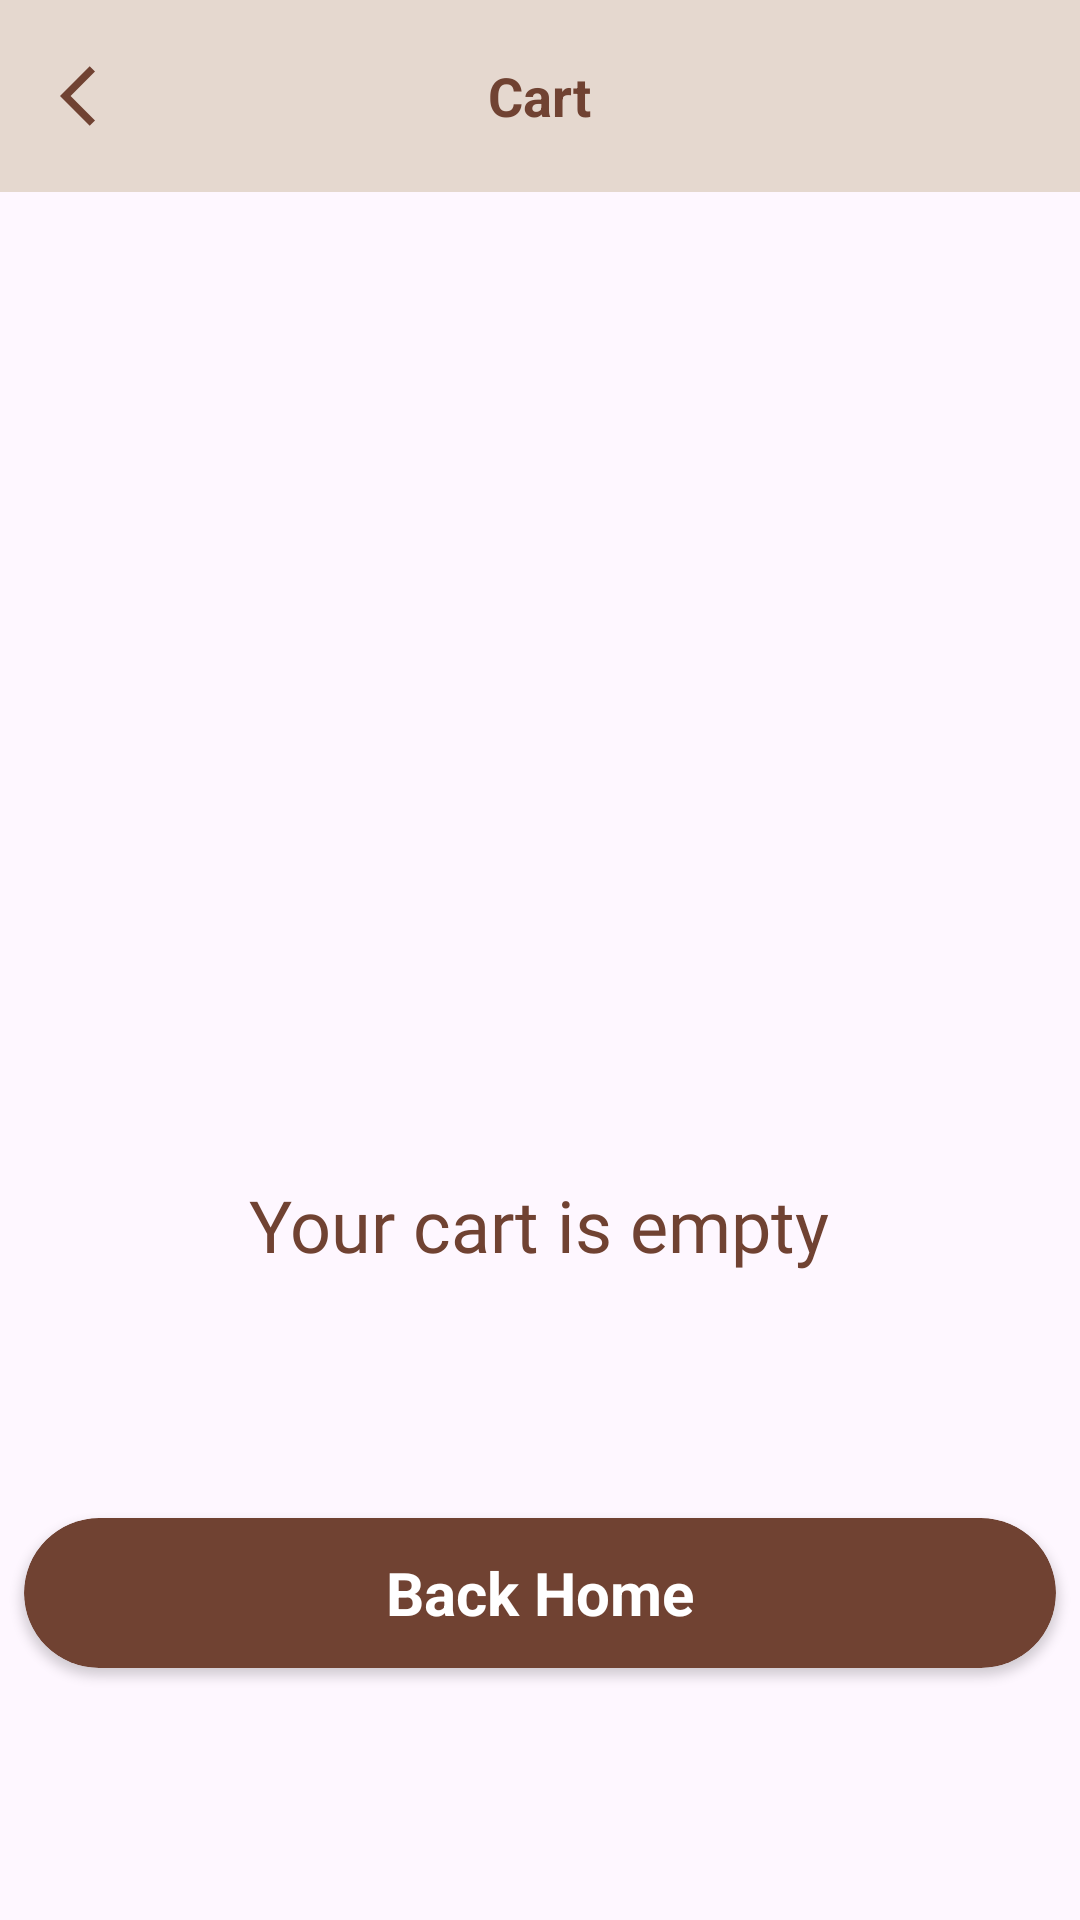

Icon click points for this 1080 × 1920 phone screenshot, format (x=x, y=y):
back arrow: (x=77, y=96)
